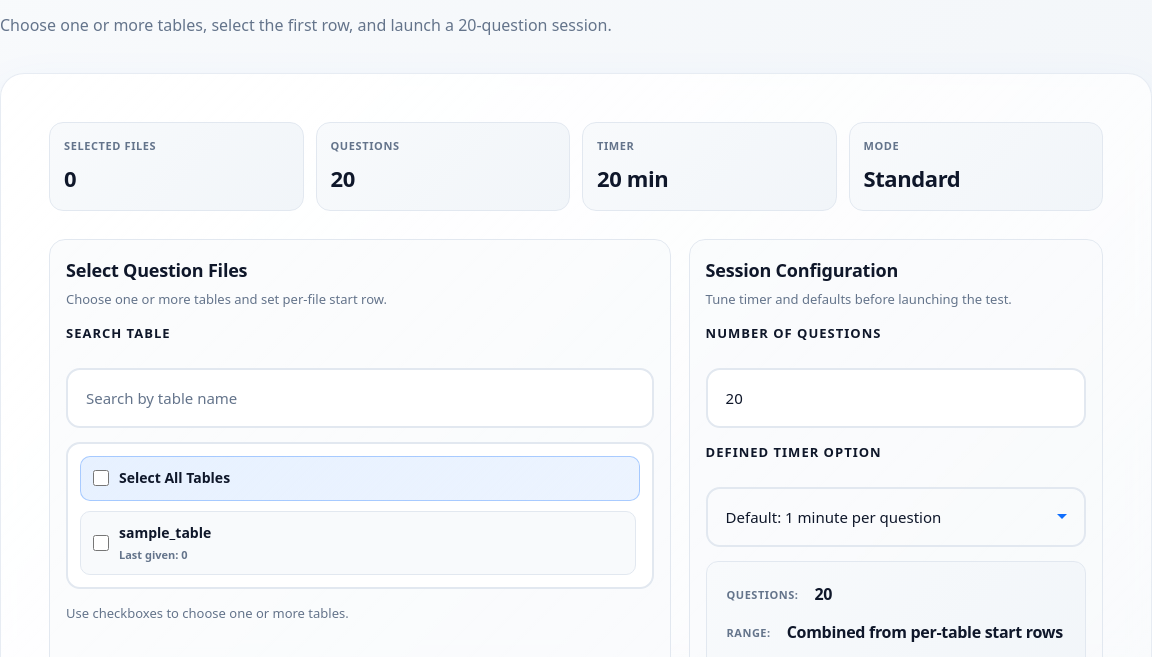
TestPage unlimited timer › does not auto-submit when the timer mode is unlimited
Click the checkbox labelled "sample_table Last given: 0".
click(101, 542)  # box [93,534,109,550]
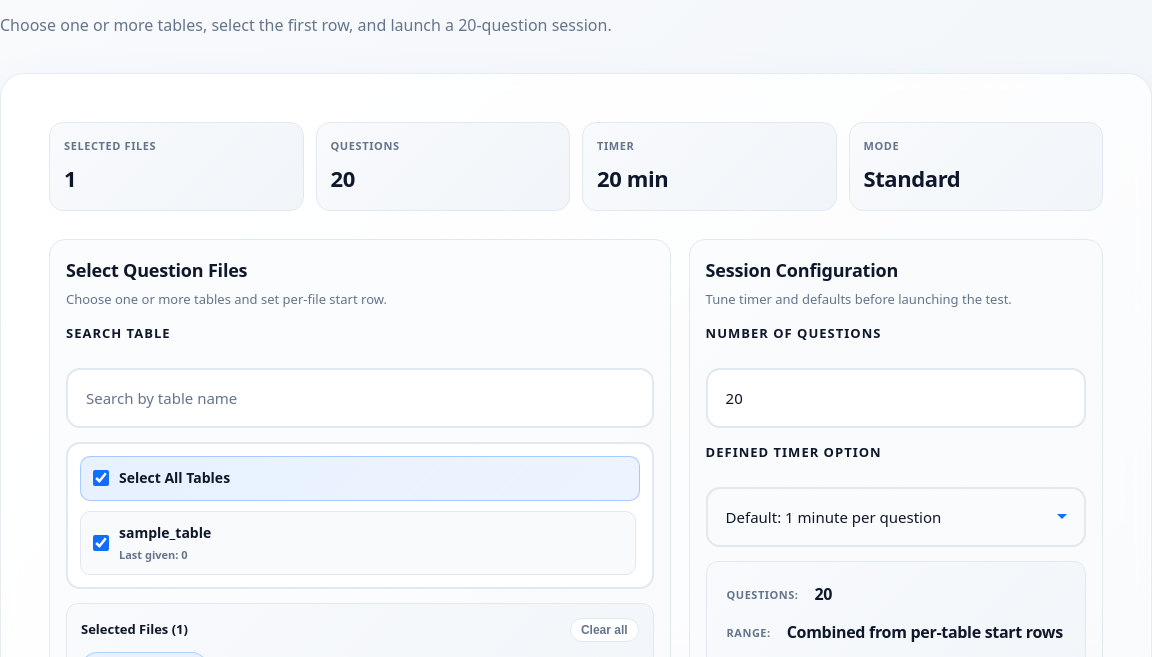
Select "Unlimited (no countdown)" in the dropdown labelled "Defined Timer Option" at x=896, y=517, box [706,487,1086,547]
(page scrolled)
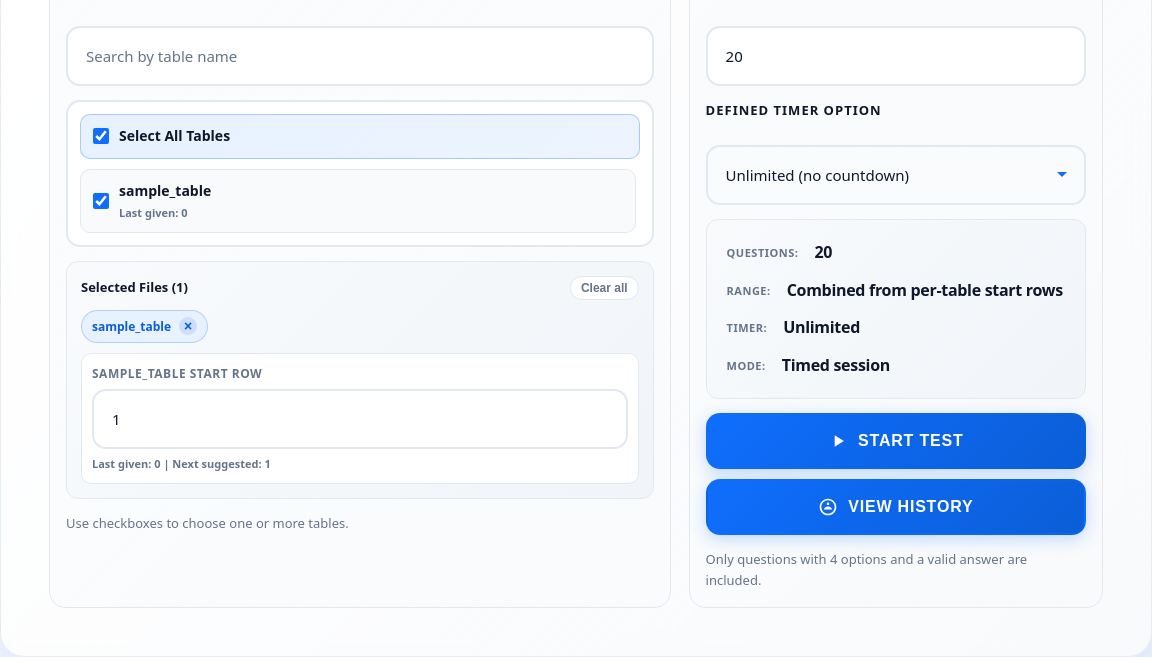
Click the button "Start Test".
click(896, 441)  # box [706,413,1086,469]
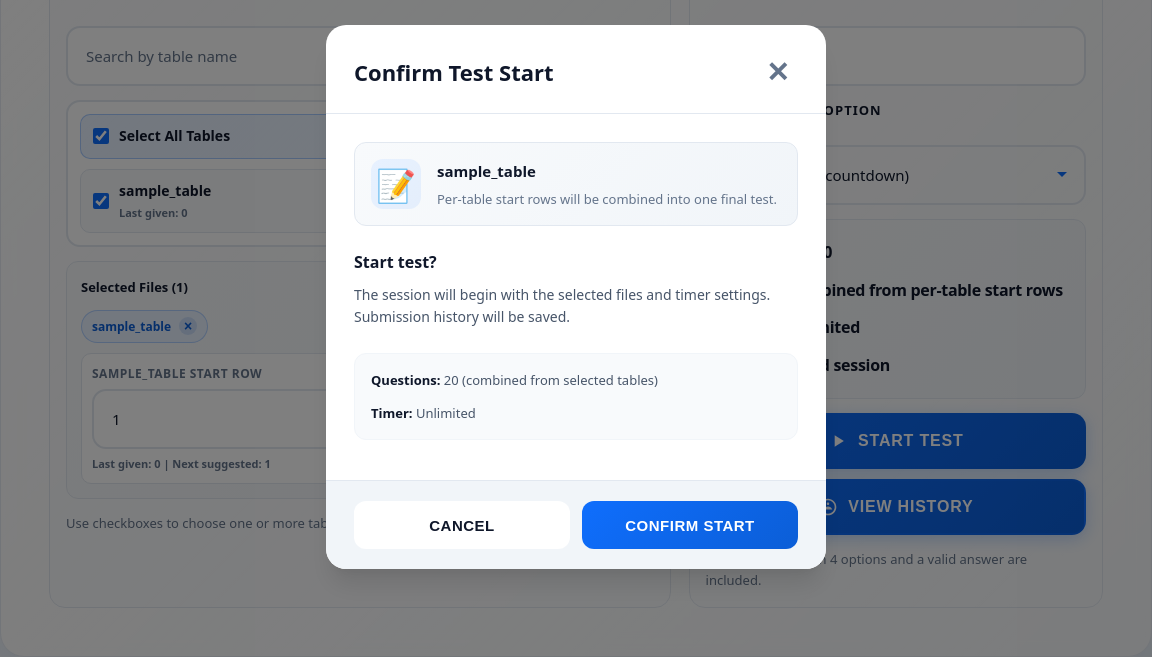
Expected: the button "Confirm Start" is shown
Click the button "Confirm Start".
click(690, 525)  # box [582,501,798,549]
Wait 1000 ms
(page scrolled)
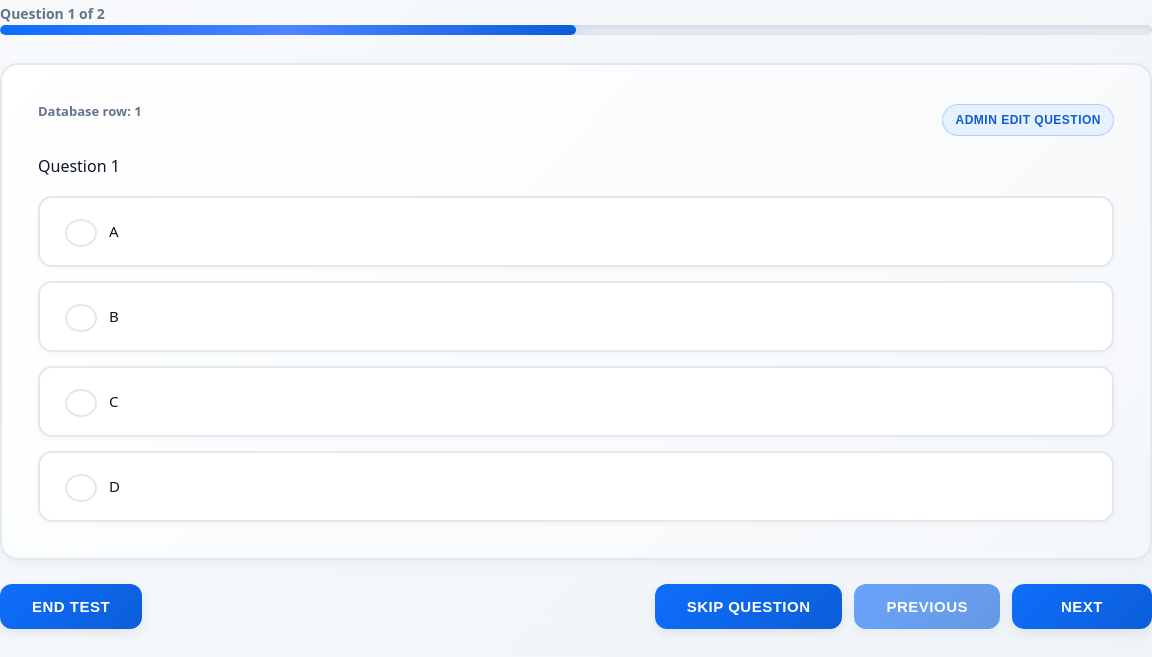
Expected: the text "Question 1 of 2" is shown, [0,4,105,23]
